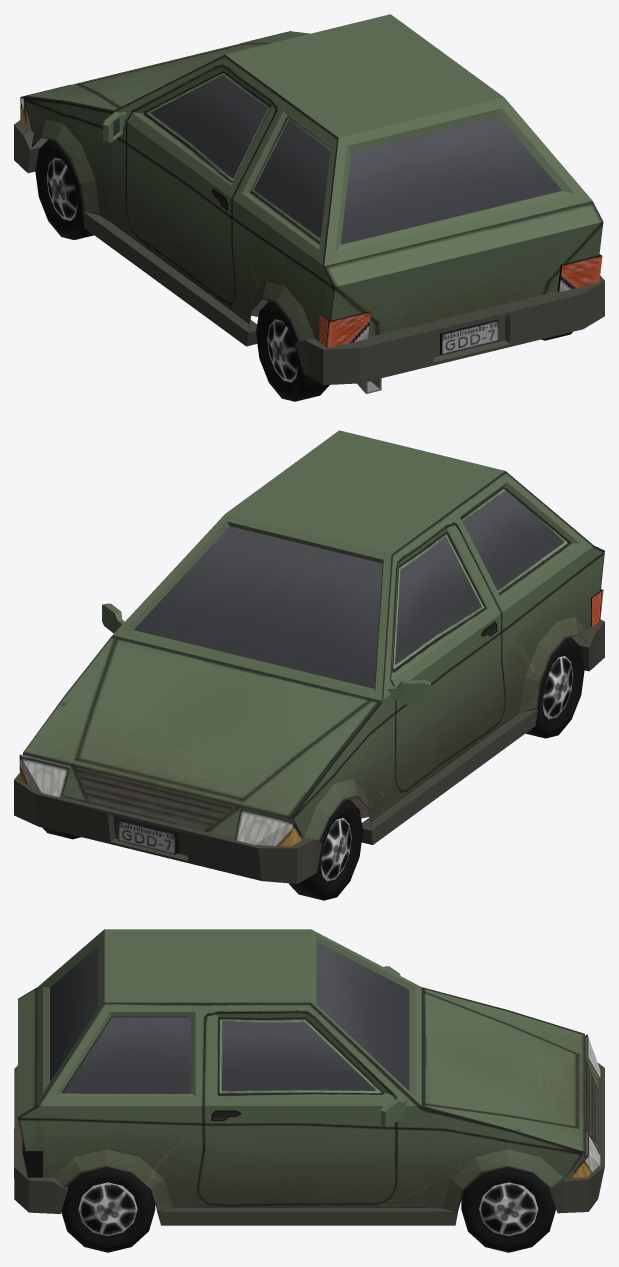
Rendered from carro2.fbx.
3 renders of one model, top to bottom at view 1: azimuth 30°, elevation 25°; view 2: azimuth 150°, elevation 25°; view 3: azimuth 270°, elevation 25°, orthographic. The views are drawn at different scales.
Visible parts, largest first — view 1: carro2; view 2: carro2; view 3: carro2.
Part boxes in pixels (x1,y1,x2,y2): carro2: [14, 14, 604, 401]; carro2: [14, 430, 604, 900]; carro2: [14, 929, 604, 1252].
Size of the model in its own units: 176 by 127 by 302.
